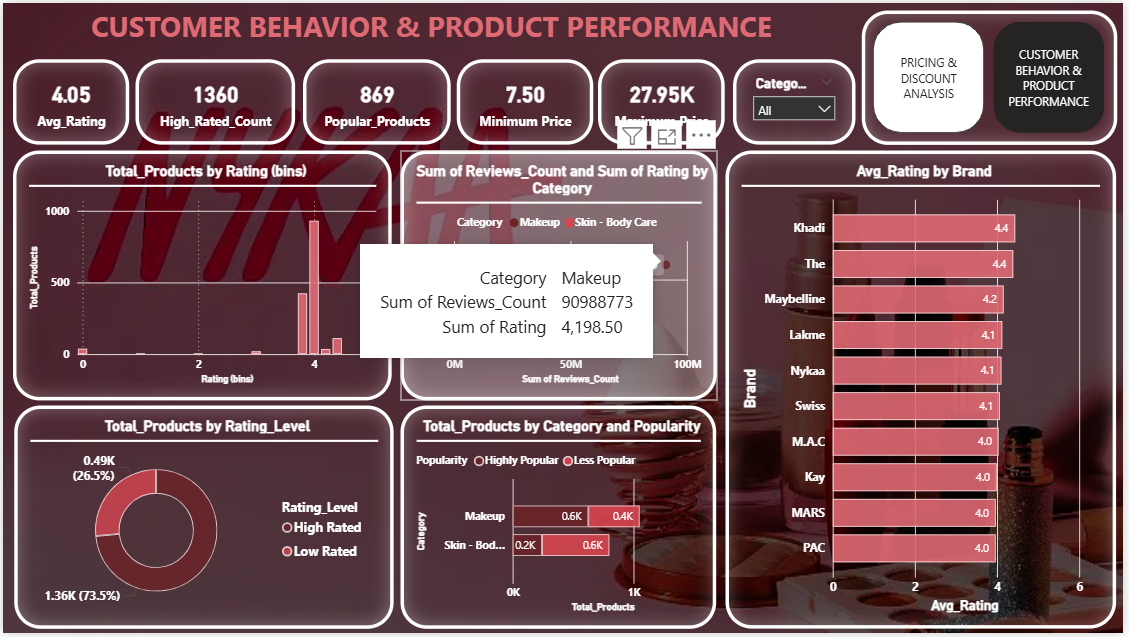

The page's visual inventory and layout, read from the dashboard file:
{"tool":"powerbi","page":{"name":"CUSTOMER BEHAVIOR & PRODUCT PERFORMANCE","canvas":[1280,720],"ordinal":1},"visuals":[{"type":"card","fields":{"Values":["Nykaa_Dataset.Avg_Rating"]},"box":[12.1,63.9,132.7,97.7],"z":0},{"type":"card","fields":{"Values":["Nykaa_Dataset.High_Rated_Count"]},"box":[152,63.9,182.2,97.7],"z":1000},{"type":"card","fields":{"Values":["Nykaa_Dataset.Maximum Price"]},"box":[680.4,63.9,144.8,97.7],"z":2000},{"type":"card","fields":{"Values":["Nykaa_Dataset.Popular_Products"]},"box":[342.6,63.9,168.9,97.7],"z":3000},{"type":"card","fields":{"Values":["Nykaa_Dataset.Minimum Price"]},"box":[518.8,63.9,155.6,97.7],"z":4000},{"type":"columnChart","fields":{"Category":["Nykaa_Dataset.Rating (bins)"],"Y":["Nykaa_Dataset.Total_Products"]},"box":[12.1,168.9,433.1,285.9],"z":5000},{"type":"donutChart","fields":{"Category":["Nykaa_Dataset.Rating_Level"],"Y":["Nykaa_Dataset.Total_Products"]},"box":[12.5,460,433.8,255],"z":6000},{"type":"scatterChart","fields":{"Series":["Nykaa_Dataset.Category"],"X":["Sum(Nykaa_Dataset.Reviews_Count)"],"Y":["Sum(Nykaa_Dataset.Rating)"]},"box":[453.6,168.9,361.9,285.9],"z":7000},{"type":"barChart","fields":{"Category":["Nykaa_Dataset.Brand"],"Y":["Nykaa_Dataset.Avg_Rating"]},"box":[825.2,168.9,446.4,546.5],"z":8000},{"type":"barChart","fields":{"Category":["Nykaa_Dataset.Category"],"Series":["Nykaa_Dataset.Popularity"],"Y":["Nykaa_Dataset.Total_Products"]},"box":[454,460,361,255],"z":9000},{"type":"slicer","fields":{"Values":["Nykaa_Dataset.Category","Nykaa_Dataset.Price_Bucket","Nykaa_Dataset.Brand"]},"box":[834.9,63.9,139.9,97.7],"z":10000},{"type":"pageNavigator","box":[982,8.4,292,153.2],"z":11000},{"type":"textbox","box":[12.1,0,956.7,57.9],"z":11001}]}

Visuals, with their boxes in screenshot pixels (x1, y1, x2, y2), scaled from the page's 1280x720 canvas onto the 1129x637 screenshot:
card - Nykaa_Dataset.Avg_Rating: [x1=11, y1=57, x2=128, y2=143]
card - Nykaa_Dataset.High_Rated_Count: [x1=134, y1=57, x2=295, y2=143]
card - Nykaa_Dataset.Maximum Price: [x1=600, y1=57, x2=728, y2=143]
card - Nykaa_Dataset.Popular_Products: [x1=302, y1=57, x2=451, y2=143]
card - Nykaa_Dataset.Minimum Price: [x1=458, y1=57, x2=595, y2=143]
columnChart - Nykaa_Dataset.Rating (bins) x Nykaa_Dataset.Total_Products: [x1=11, y1=149, x2=393, y2=402]
donutChart - Nykaa_Dataset.Rating_Level x Nykaa_Dataset.Total_Products: [x1=11, y1=407, x2=394, y2=633]
scatterChart - Nykaa_Dataset.Category x Sum(Nykaa_Dataset.Reviews_Count): [x1=400, y1=149, x2=719, y2=402]
barChart - Nykaa_Dataset.Brand x Nykaa_Dataset.Avg_Rating: [x1=728, y1=149, x2=1122, y2=633]
barChart - Nykaa_Dataset.Category x Nykaa_Dataset.Popularity: [x1=400, y1=407, x2=719, y2=633]
slicer - Nykaa_Dataset.Category x Nykaa_Dataset.Price_Bucket: [x1=736, y1=57, x2=860, y2=143]
pageNavigator: [x1=866, y1=7, x2=1124, y2=143]
textbox: [x1=11, y1=0, x2=855, y2=51]
